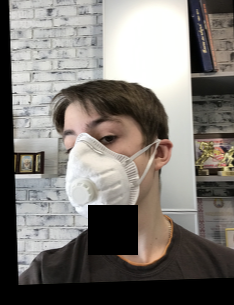with_mask: (62, 112, 148, 224)
